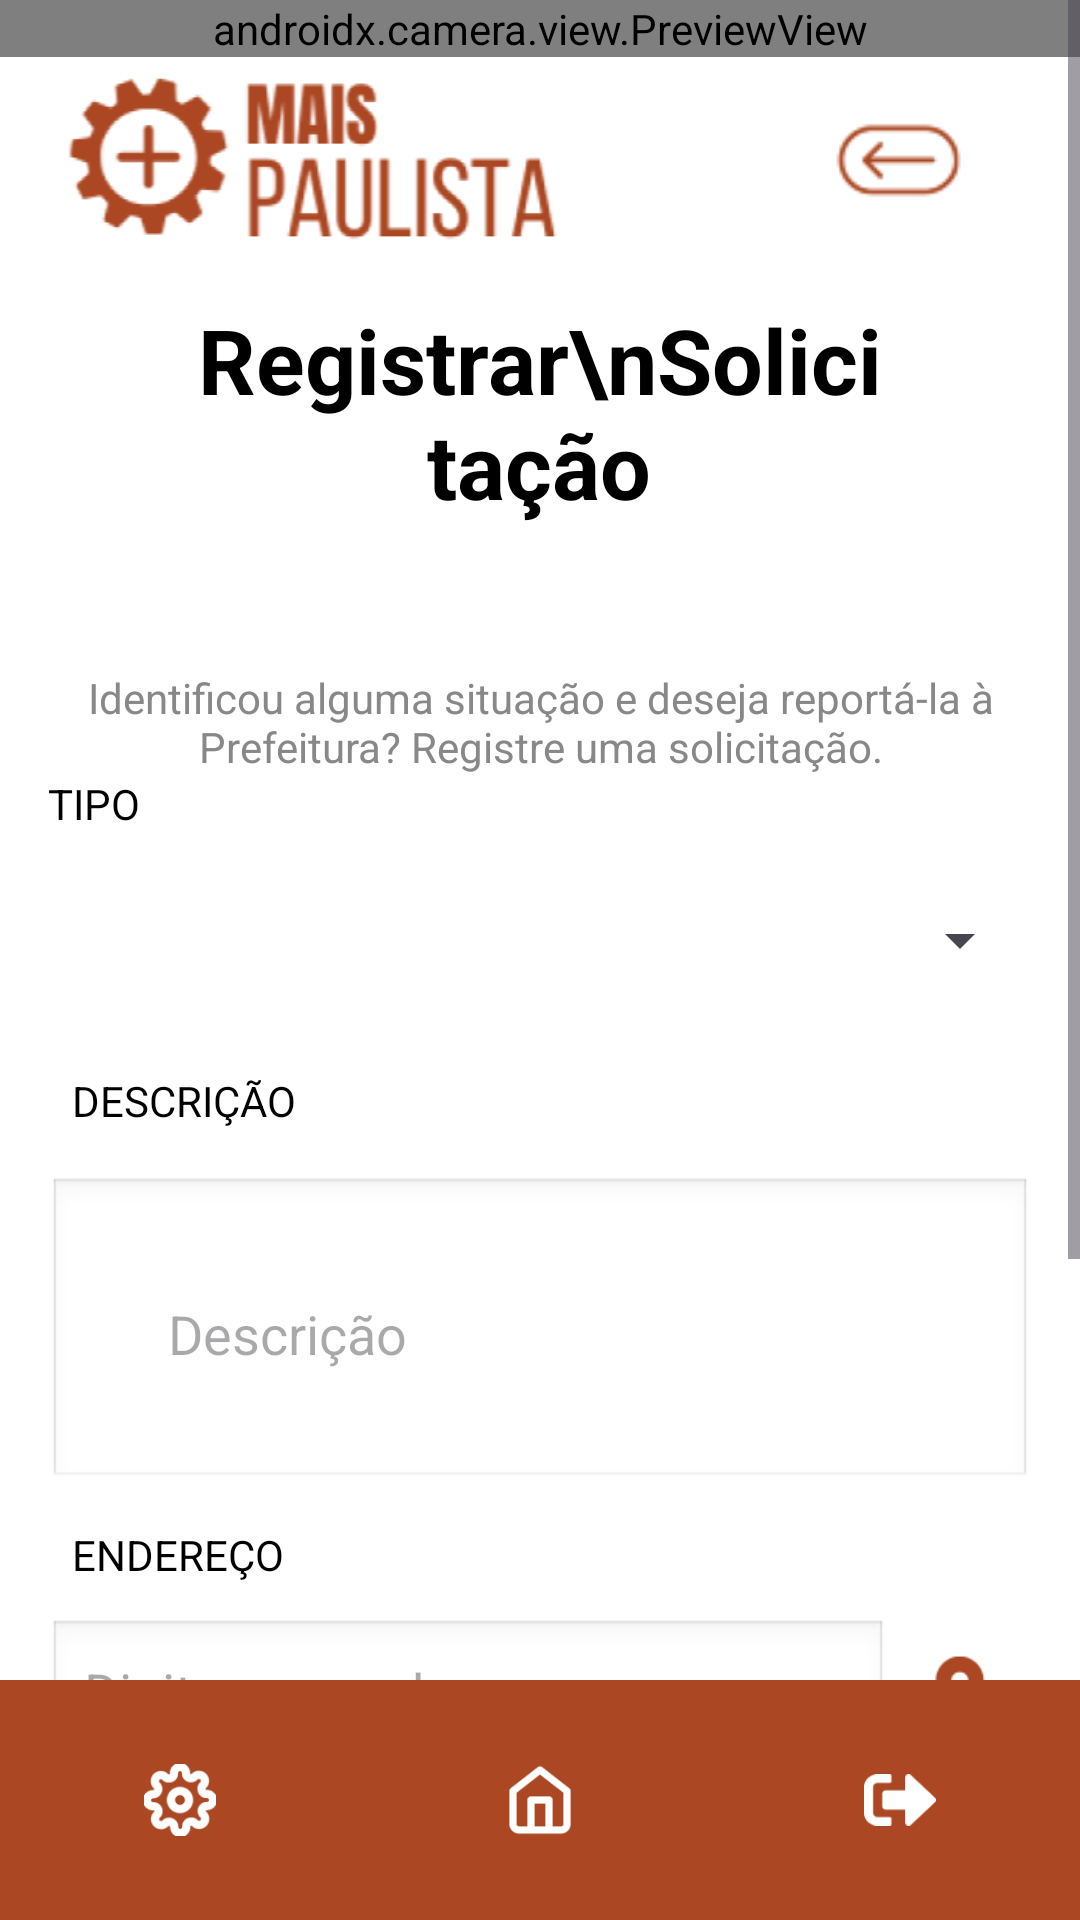

Point at icon controls on the screen. Image size 1080 x 1920, points as [x,y].
back arrow: [898,160]
